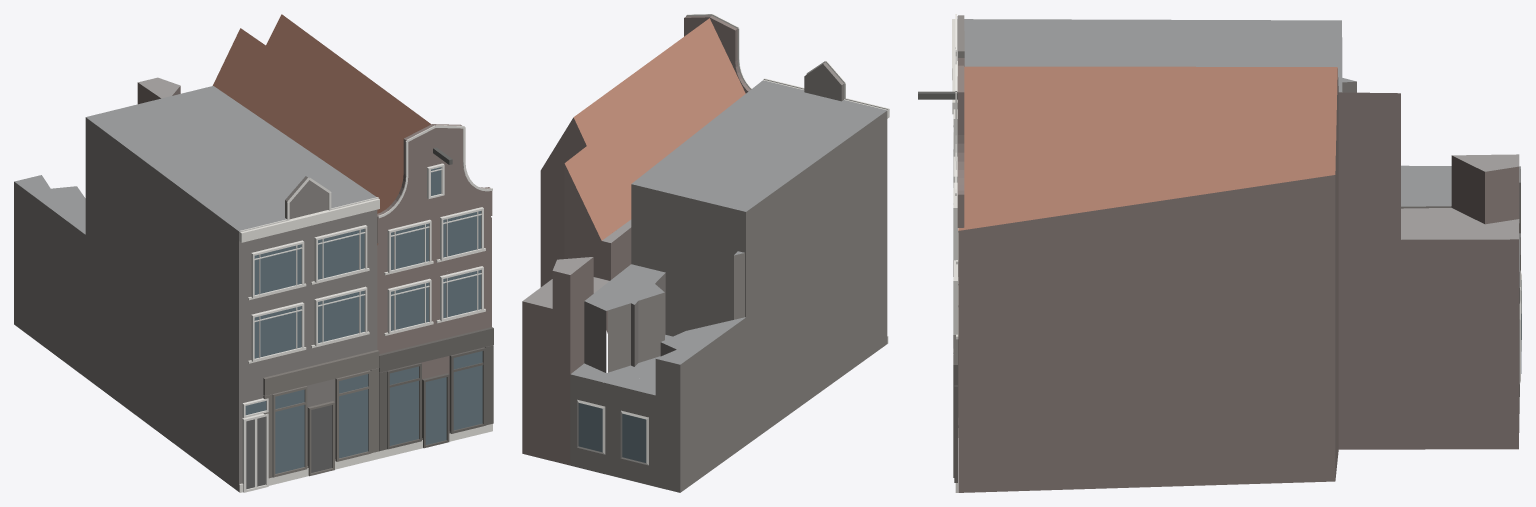
The model's file is chunk-face-haarlemmerdijk-117-143-r1.glb.
3 renders of one model, left to right at view 1: azimuth 30°, elevation 25°; view 2: azimuth 150°, elevation 25°; view 3: azimuth 270°, elevation 25°, orthographic. The views are drawn at different scales.
Parts seen in each view (by area): view 1: face-haarlemmerdijk-117-143-r1; view 2: face-haarlemmerdijk-117-143-r1; view 3: face-haarlemmerdijk-117-143-r1.
Boxes of the visible parts, box(x1,y1,x2,y2) form: face-haarlemmerdijk-117-143-r1: box(14, 14, 493, 492); face-haarlemmerdijk-117-143-r1: box(522, 14, 889, 492); face-haarlemmerdijk-117-143-r1: box(918, 14, 1521, 492).
Size of the model in its own units: 9.78 by 11.81 by 16.39.
